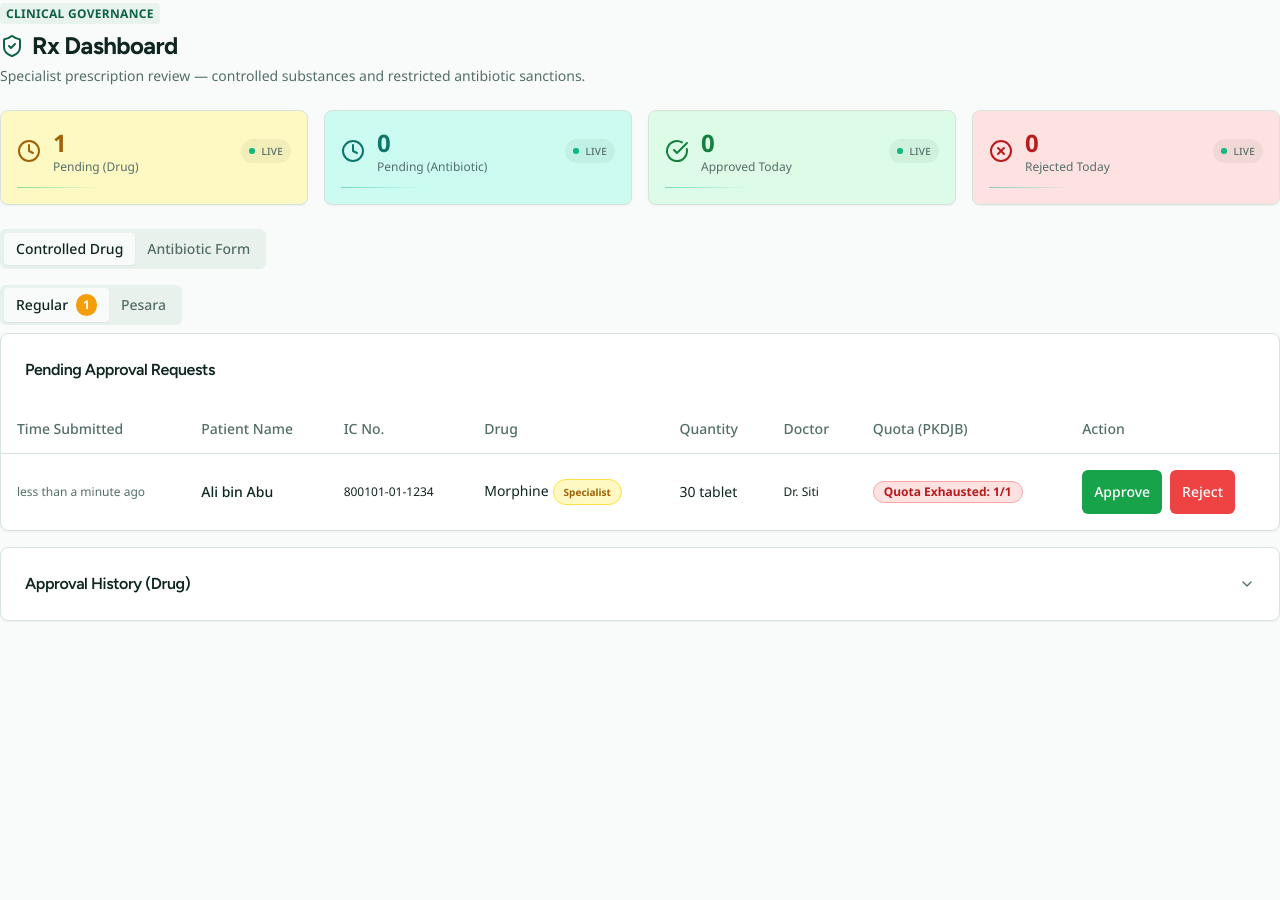
Test case: SpecialistDashboard › lets the specialist confirm an approval with the PKDJB quota exhausted and no clinic picked
This screenshot has width=1280, height=900.
Expected: the text "Morphine" is shown, x1=484 y1=481 x2=549 y2=500
Click the button "Approve".
click(1122, 492)  # box x1=1082 y1=470 x2=1162 y2=514
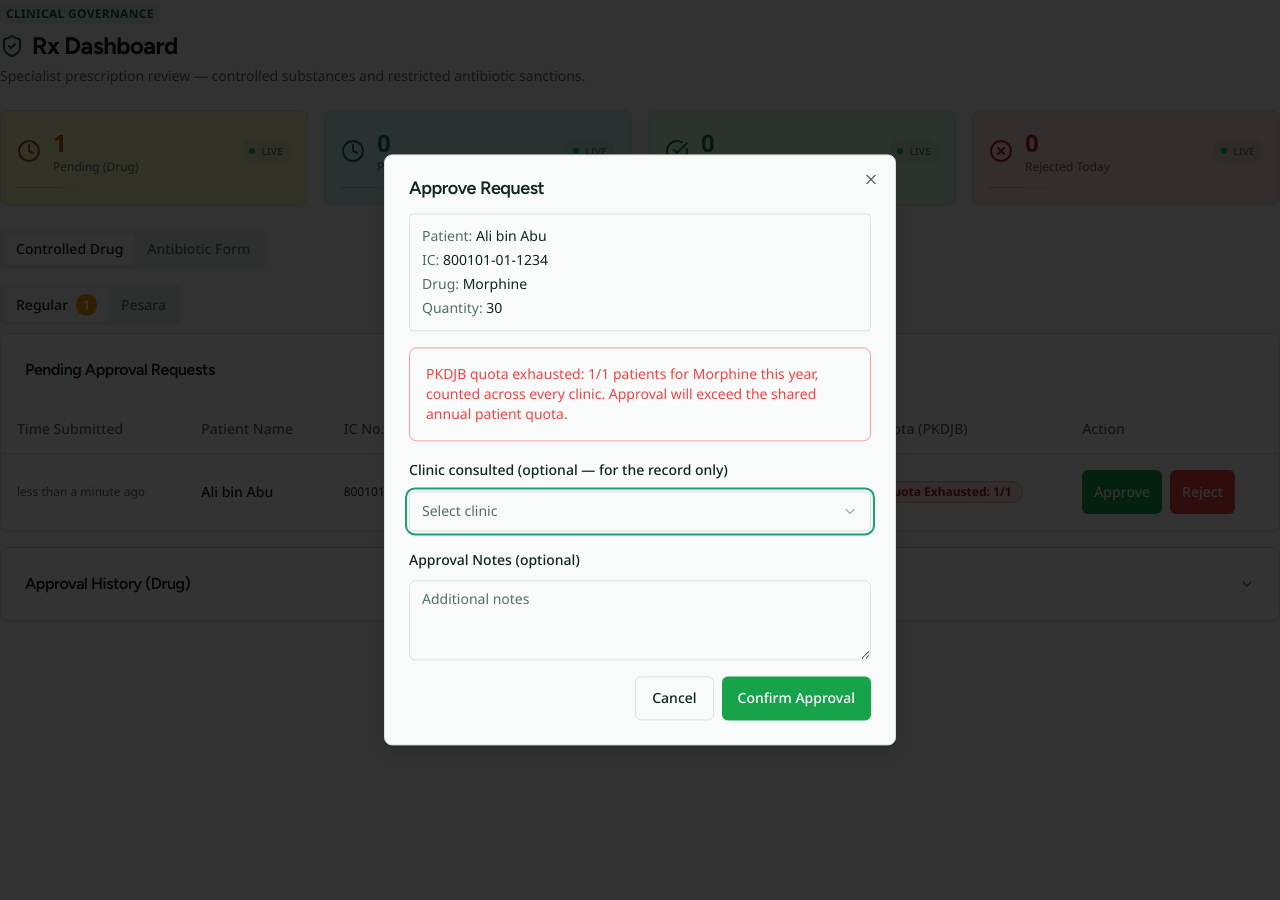
Expected: the text "PKDJB quota exhausted" is shown, x1=426 y1=364 x2=588 y2=383
Expected: the button "Confirm Approval" is enabled, x1=722 y1=677 x2=871 y2=721
